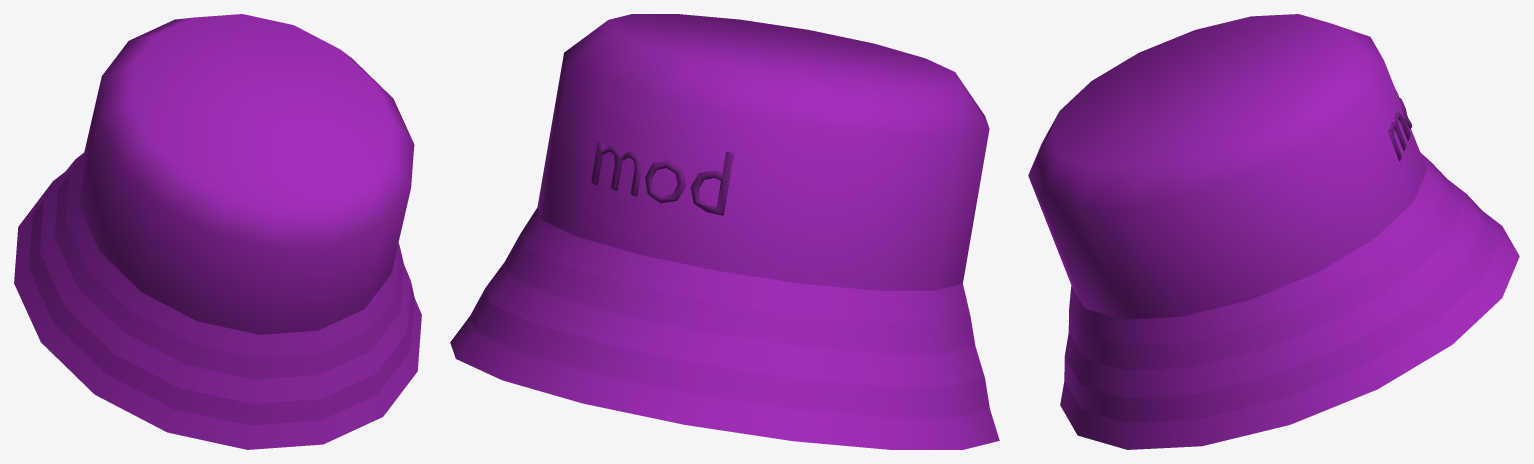
Rendered from sunhat_basic_moderator.glb.
3 views of the same model, side by side, from view 1: azimuth 30°, elevation 25°; view 2: azimuth 150°, elevation 25°; view 3: azimuth 270°, elevation 25° (orthographic). The views are drawn at different scales.
Parts seen in each view (by area): view 1: 0.129; view 2: 0.129, 1.074; view 3: 0.129, 1.074.
Boxes of the visible parts, x1,y1,x2,y2 form: 0.129: (14, 14, 421, 449); 0.129: (450, 14, 999, 449); 1.074: (591, 142, 734, 215); 0.129: (1028, 14, 1519, 449); 1.074: (1388, 89, 1412, 161).
Bounding box in the file's own units: 0.4889 × 0.4386 × 0.539.
